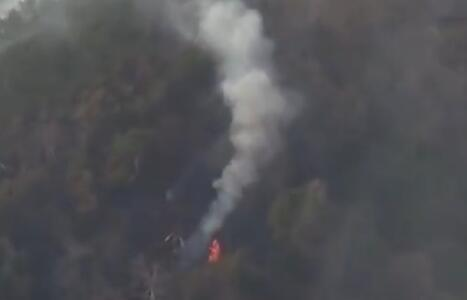fire: (207, 238, 224, 267)
smoke: (161, 1, 294, 261)
